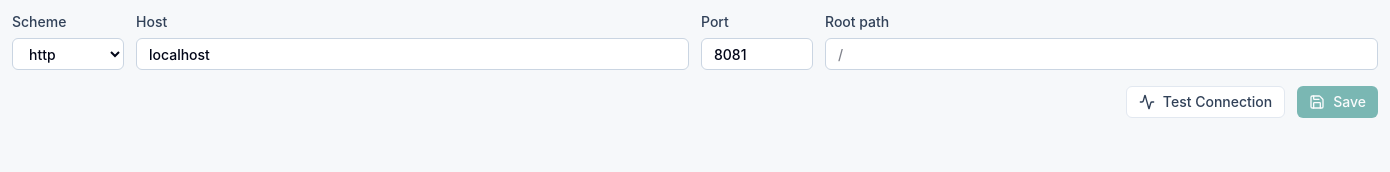
it: ScriptBackendConfigWidget › tests the current draft endpoint without saving it
Type "/runner/" into the field labelled "Root path" at (1102, 54), box [825,38,1378,70]
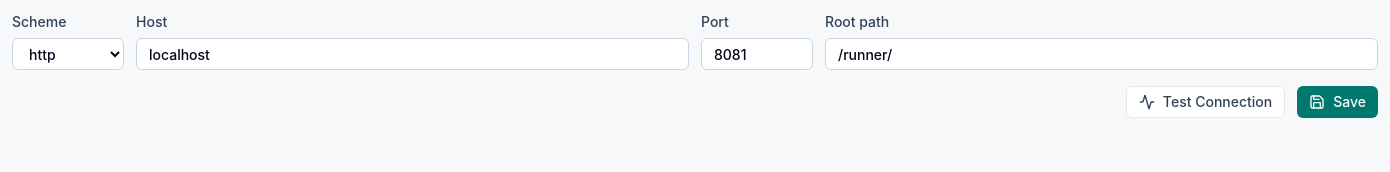
Click the button "Test Connection" at (1206, 102), box [1126,86,1285,118]
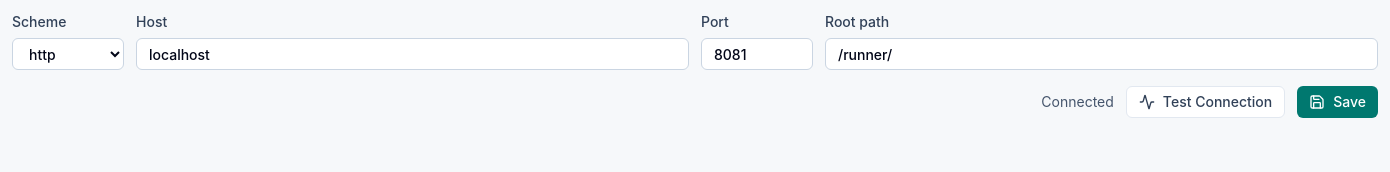
Expected: the text "Connected" is shown, [1041,92,1114,112]
